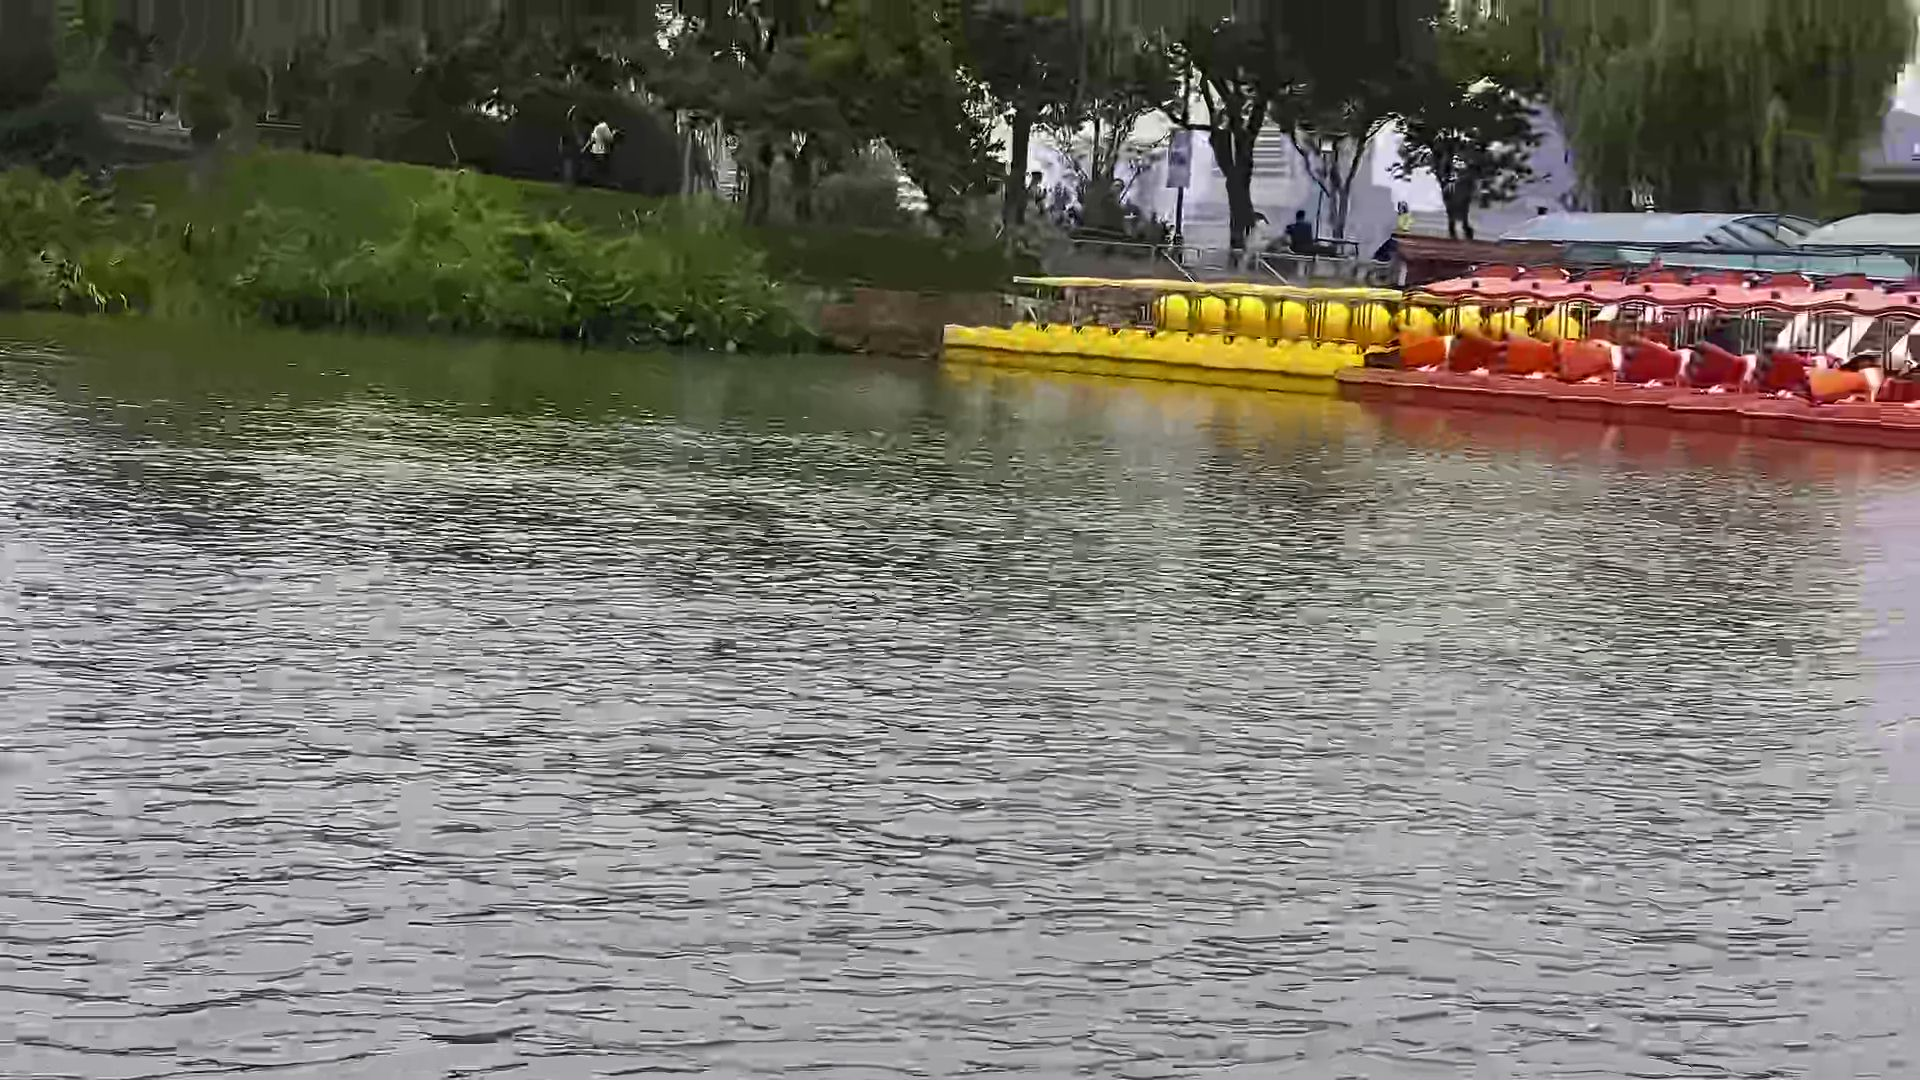harbor: (956, 211, 1917, 454)
